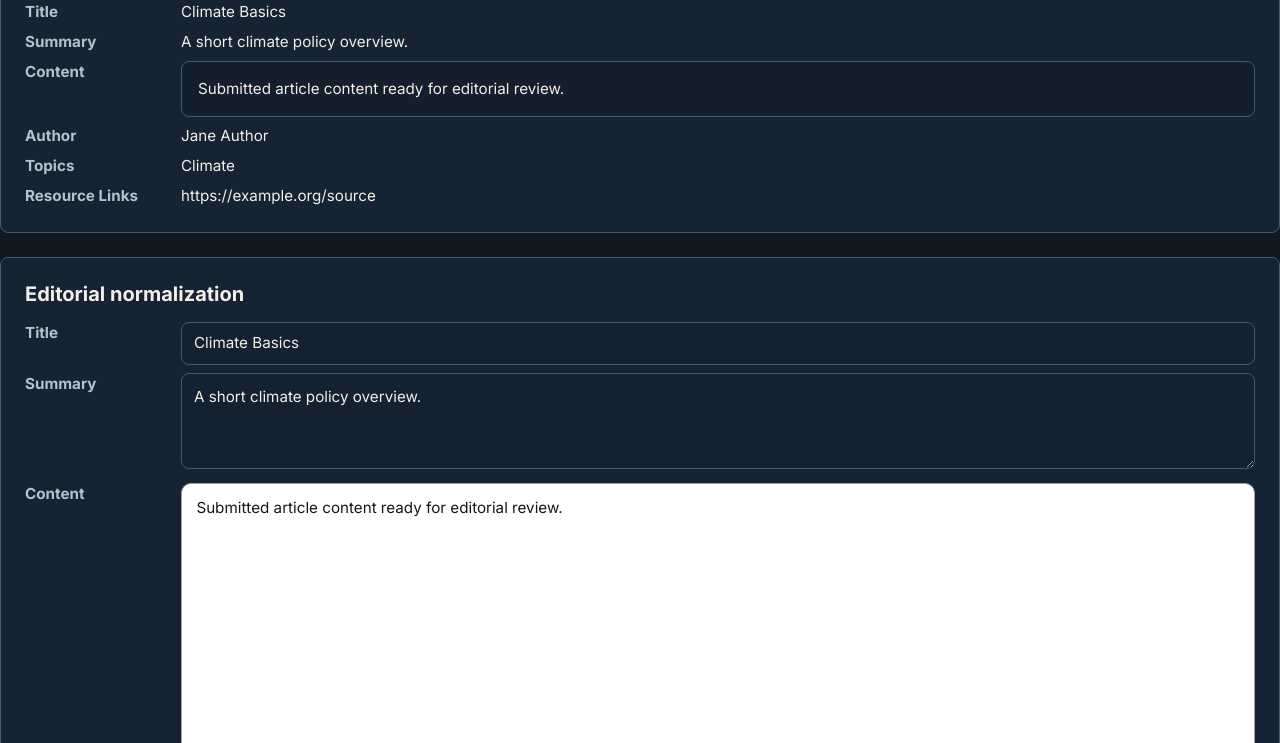
it: SubmissionReviewPageContent › blocks article approval when required normalized fields are invalid
(page scrolled)
Clear the field labelled "Title" at (718, 343), box [181,322,1255,365]
(page scrolled)
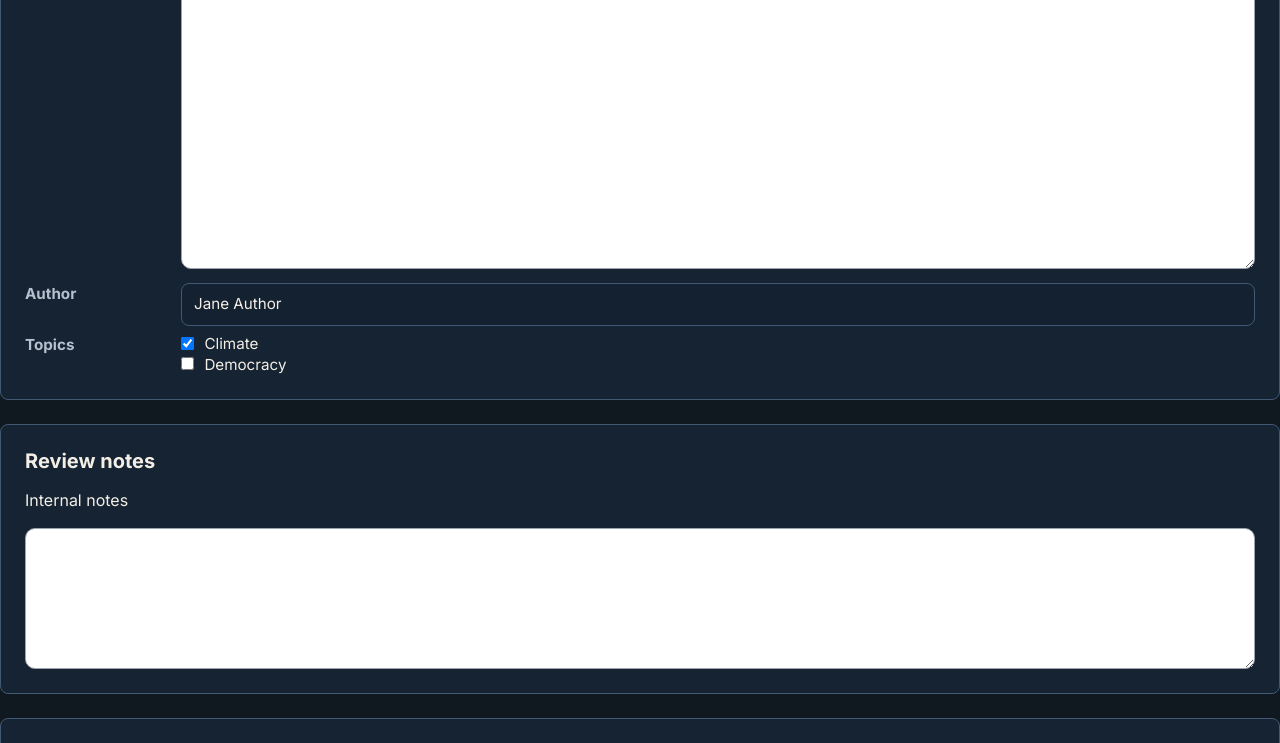
Click the checkbox labelled "Climate".
click(188, 343)  # box [181,337,194,350]
(page scrolled)
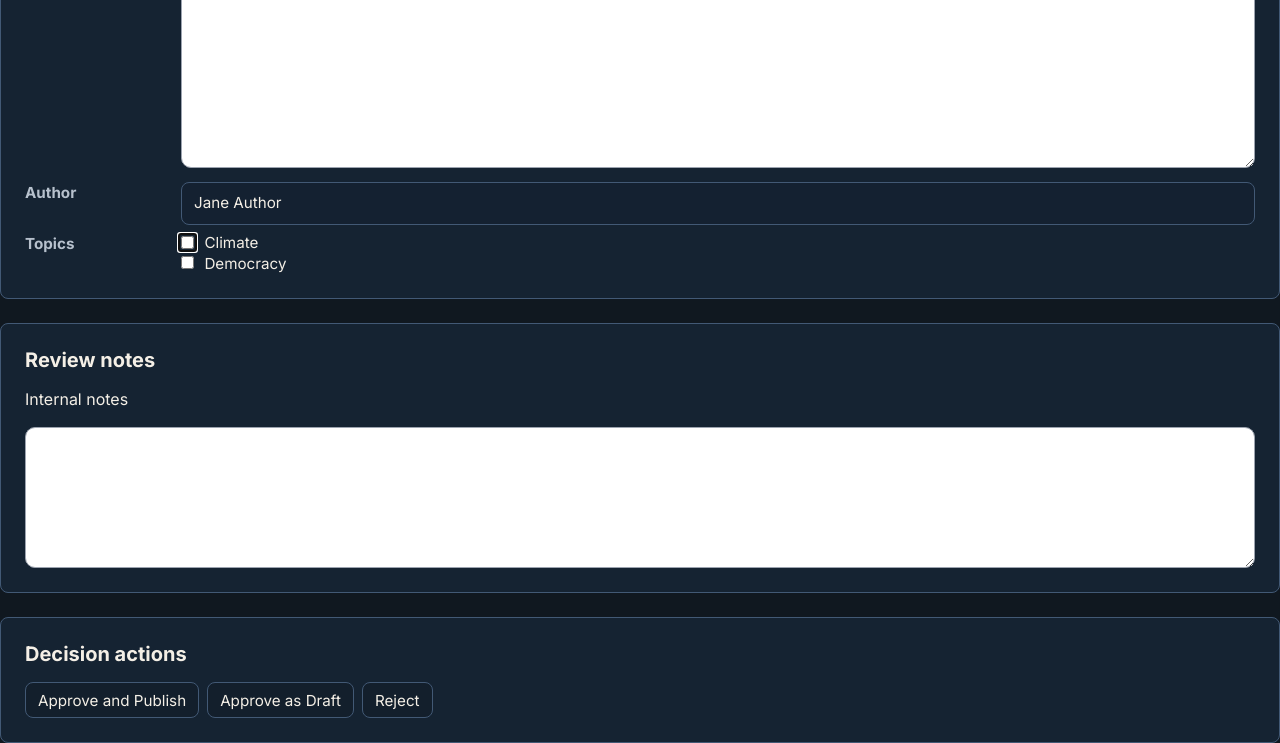
Click the button "Approve and Publish".
click(112, 700)  # box [25,682,199,718]
(page scrolled)
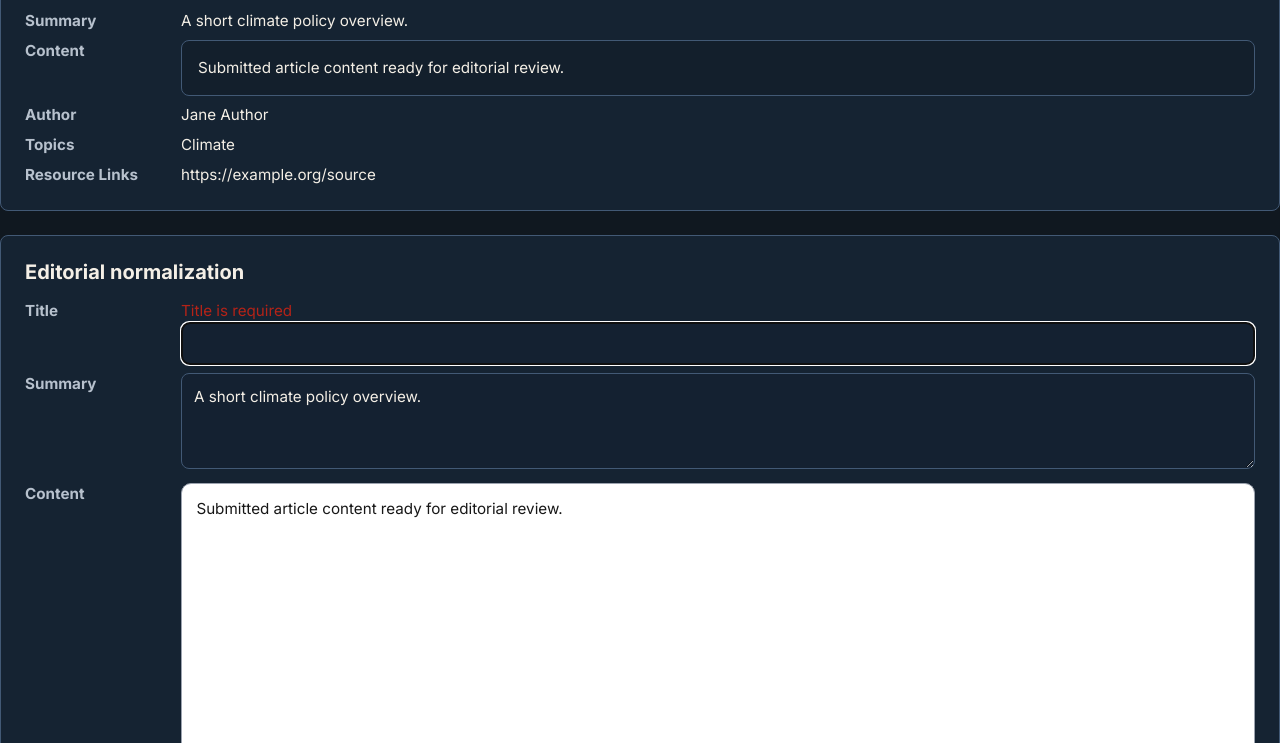
Check: the text "Title is required" is shown, box [181,302,292,320]
